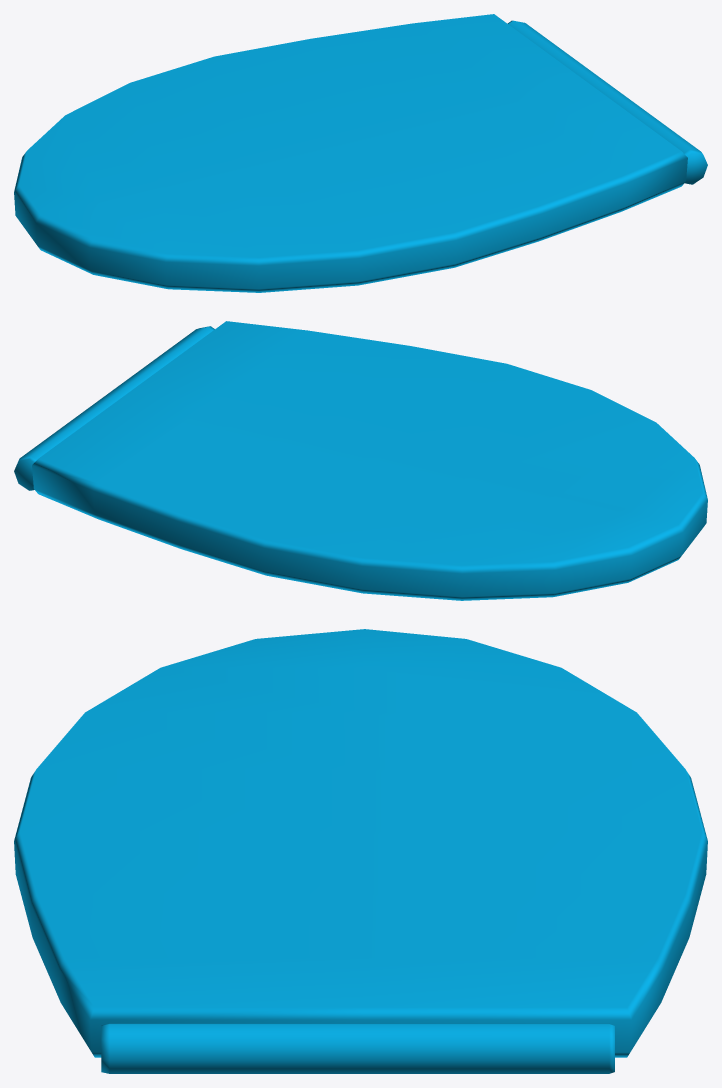
Rendered from Wc_02_Seat_Top_Lod0.fbx.
3 renders of one model, top to bottom at view 1: azimuth 30°, elevation 25°; view 2: azimuth 150°, elevation 25°; view 3: azimuth 270°, elevation 25°, orthographic. The views are drawn at different scales.
Parts seen in each view (by area): view 1: Wc_02_Seat_Top_Lod0; view 2: Wc_02_Seat_Top_Lod0; view 3: Wc_02_Seat_Top_Lod0.
Part boxes in pixels (box(x1,y1,x2,y2)): Wc_02_Seat_Top_Lod0: box(14, 14, 707, 292); Wc_02_Seat_Top_Lod0: box(14, 321, 707, 600); Wc_02_Seat_Top_Lod0: box(14, 629, 707, 1073).
Size of the model in its own units: 47.38 by 3.1 by 34.55.
